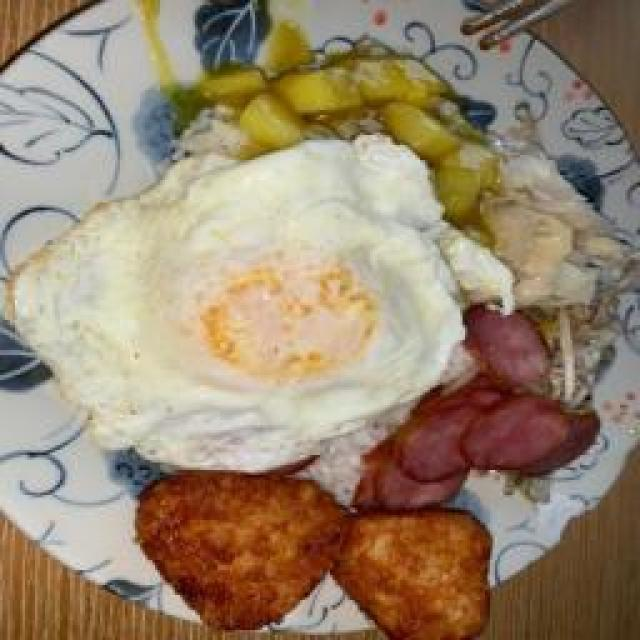Wet Waste: (15, 135, 465, 475), (132, 470, 498, 640), (390, 300, 588, 515), (240, 52, 490, 148), (493, 155, 615, 303), (545, 305, 610, 405), (313, 428, 375, 500), (178, 112, 238, 158)
